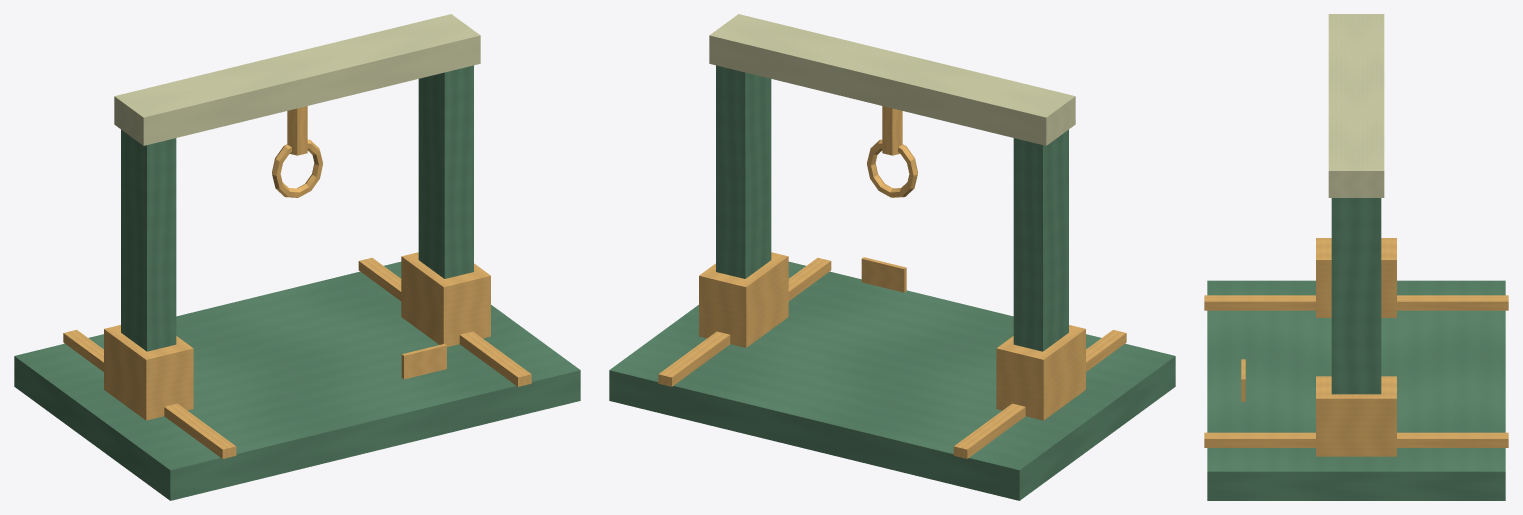
File: atlas100-s003-a02.lod1.glb
3 views of the same model, side by side, from view 1: azimuth 30°, elevation 25°; view 2: azimuth 150°, elevation 25°; view 3: azimuth 270°, elevation 25° (orthographic). The views are drawn at different scales.
Parts seen in each view (by area): view 1: atlas100-s003-a02:part-000, atlas100-s003-a02:part-007, atlas100-s003-a02:part-003, atlas100-s003-a02:part-005, atlas100-s003-a02:part-004, atlas100-s003-a02:part-006, atlas100-s003-a02:part-002, atlas100-s003-a02:part-001, atlas100-s003-a02:part-009, atlas100-s003-a02:part-010, atlas100-s003-a02:part-008; view 2: atlas100-s003-a02:part-000, atlas100-s003-a02:part-007, atlas100-s003-a02:part-003, atlas100-s003-a02:part-005, atlas100-s003-a02:part-004, atlas100-s003-a02:part-006, atlas100-s003-a02:part-002, atlas100-s003-a02:part-001, atlas100-s003-a02:part-009, atlas100-s003-a02:part-010, atlas100-s003-a02:part-008; view 3: atlas100-s003-a02:part-000, atlas100-s003-a02:part-007, atlas100-s003-a02:part-005, atlas100-s003-a02:part-006, atlas100-s003-a02:part-001, atlas100-s003-a02:part-002, atlas100-s003-a02:part-004.
Boxes of the visible parts, x1,y1,x2,y2 form: atlas100-s003-a02:part-000: (14, 261, 580, 500); atlas100-s003-a02:part-007: (114, 14, 480, 145); atlas100-s003-a02:part-003: (121, 129, 176, 351); atlas100-s003-a02:part-005: (418, 65, 473, 278); atlas100-s003-a02:part-004: (104, 325, 193, 420); atlas100-s003-a02:part-006: (401, 252, 490, 346); atlas100-s003-a02:part-002: (358, 257, 531, 386); atlas100-s003-a02:part-001: (63, 330, 236, 458); atlas100-s003-a02:part-009: (272, 139, 322, 197); atlas100-s003-a02:part-010: (401, 344, 446, 379); atlas100-s003-a02:part-008: (287, 106, 307, 155); atlas100-s003-a02:part-000: (609, 261, 1175, 500); atlas100-s003-a02:part-007: (709, 14, 1075, 145); atlas100-s003-a02:part-003: (1013, 129, 1068, 351); atlas100-s003-a02:part-005: (716, 65, 771, 278); atlas100-s003-a02:part-004: (996, 325, 1085, 420); atlas100-s003-a02:part-006: (699, 252, 788, 347); atlas100-s003-a02:part-002: (658, 257, 831, 386); atlas100-s003-a02:part-001: (953, 330, 1126, 458); atlas100-s003-a02:part-009: (867, 139, 917, 197); atlas100-s003-a02:part-010: (861, 257, 906, 292); atlas100-s003-a02:part-008: (882, 106, 902, 155); atlas100-s003-a02:part-000: (1207, 280, 1505, 500); atlas100-s003-a02:part-007: (1328, 14, 1384, 197); atlas100-s003-a02:part-005: (1331, 198, 1381, 394); atlas100-s003-a02:part-006: (1316, 376, 1396, 456); atlas100-s003-a02:part-001: (1204, 295, 1508, 310); atlas100-s003-a02:part-002: (1204, 432, 1508, 447); atlas100-s003-a02:part-004: (1316, 238, 1396, 317).
Bounding box in the file's own units: 3.64 × 2.78 × 2.45.
Materials: 3 (3 with a texture image).
